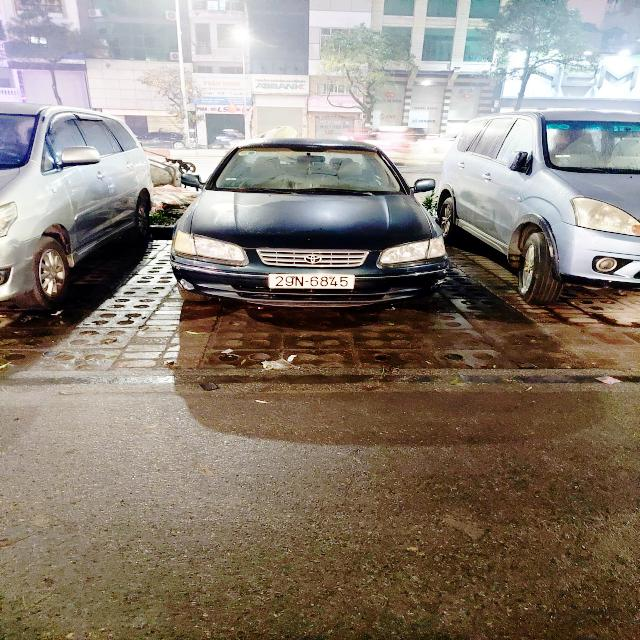license_plate: (269, 274, 358, 292)
